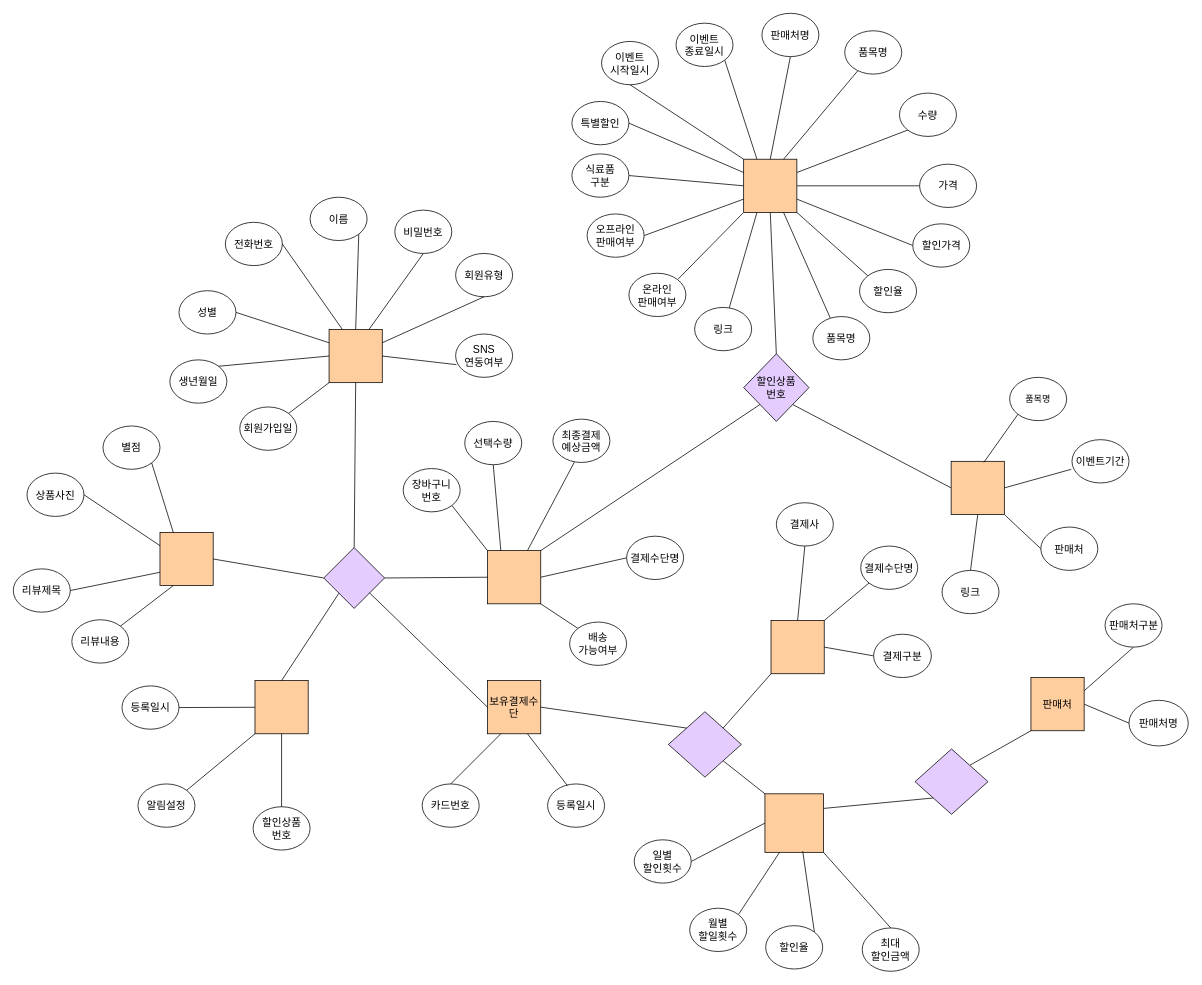
Some shapes in this 1202 by 985 pixel diagram are drawn without their labels. The shapes that lost their labels are listed below. From the top down, each one's centre as x and y in pixels, then its label:
At [770,185]: "할인상품정보".
At [355,356]: "회원정보".
At [977,488]: "이벤트 캘린더".
At [186,559]: "상품평 관리".
At [354,577]: "아이디".
At [514,577]: "장바구니".
At [797,647]: "결제수단".
At [281,707]: "관심상품관리".
At [704,744]: "결제수단 번호".
At [951,781]: "판매처번호".
At [793,822]: "결제수단별 _할인혜택".
